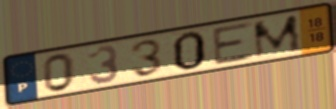0: (170, 30, 209, 72), (41, 51, 77, 94)
3: (85, 44, 120, 87), (129, 38, 165, 78)
E: (211, 20, 257, 68)
M: (251, 12, 305, 60)
